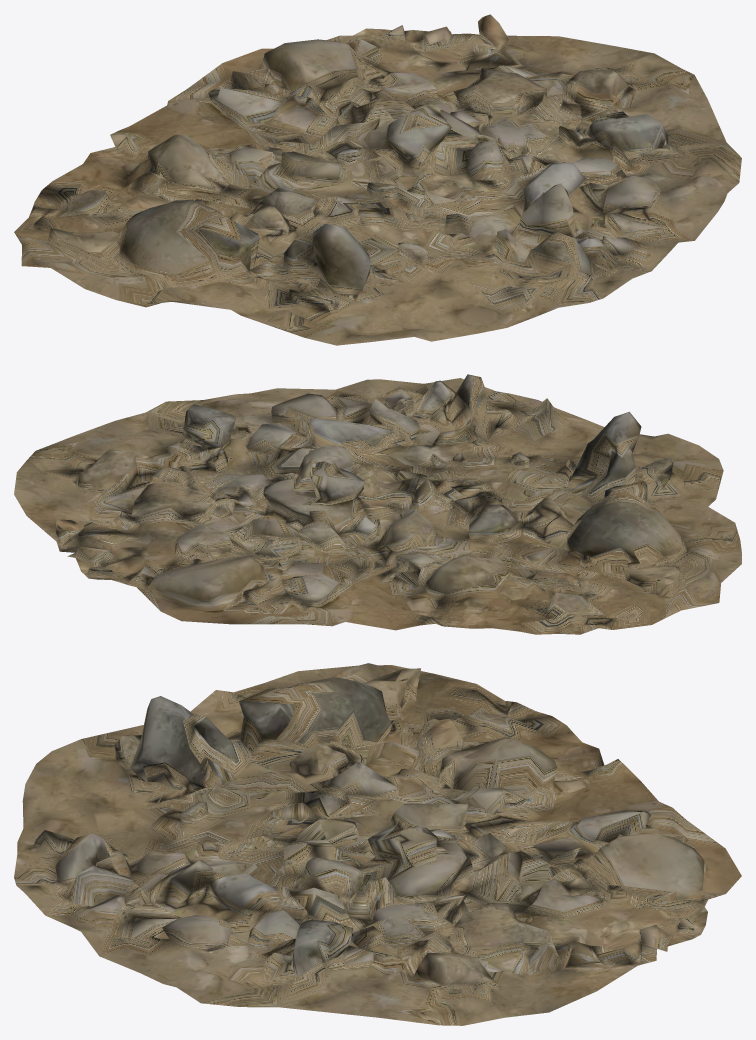
Rendered from sand_rocks_small_01.glb.
The picture shows the model from 3 angles, top to bottom: view 1: azimuth 30°, elevation 25°; view 2: azimuth 150°, elevation 25°; view 3: azimuth 270°, elevation 25°; orthographic projection. The views are drawn at different scales.
Parts seen in each view (by area): view 1: sand_rocks_small_01_LOD0; view 2: sand_rocks_small_01_LOD0; view 3: sand_rocks_small_01_LOD0.
Part boxes in pixels (x1,y1,x2,y2): sand_rocks_small_01_LOD0: (14, 14, 741, 345); sand_rocks_small_01_LOD0: (14, 374, 741, 634); sand_rocks_small_01_LOD0: (14, 663, 741, 1025).
Bounding box in the file's own units: 4.63 × 0.526 × 3.88.
1 material, 1 textured.
